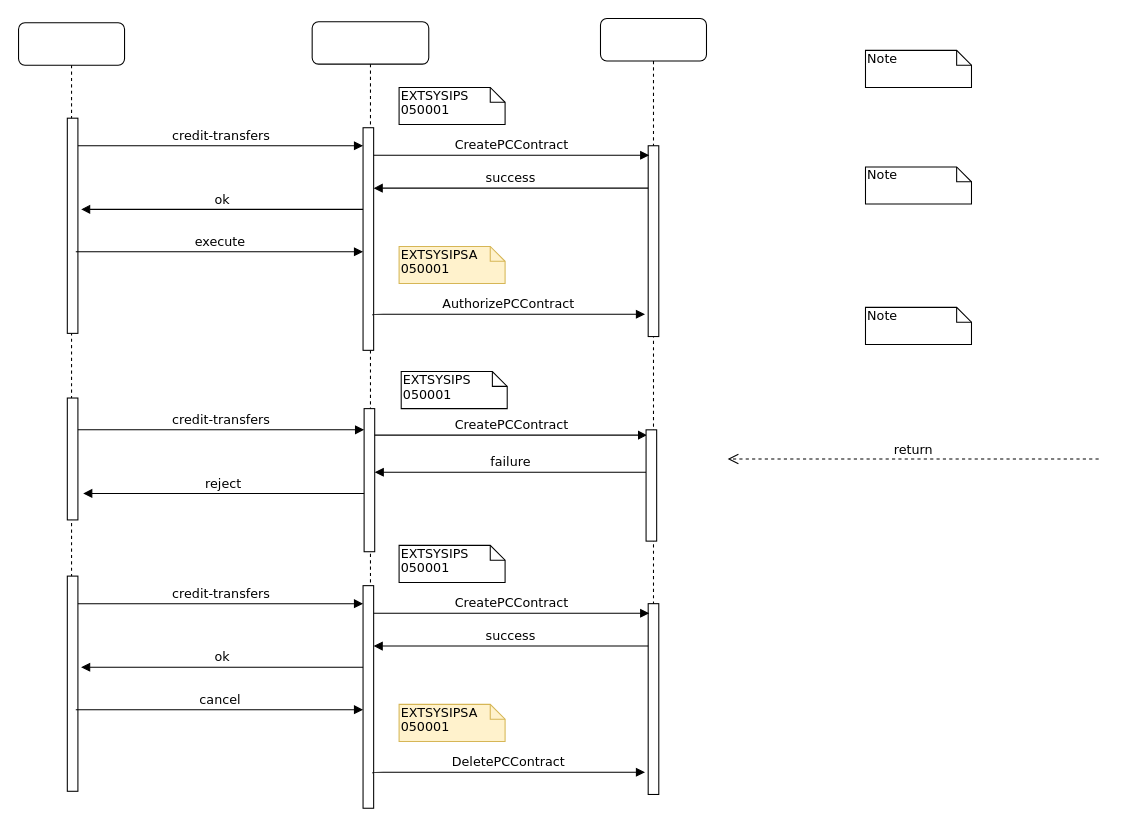
The diagram is 1128 pixels wide and 827 high, and some of its shapes have lost their labels. Each missing label, with the centre of its shape:
"Asseco PG" goes at point (71, 391).
"FC" goes at point (652, 394).
"GET IPA" goes at point (370, 391).
